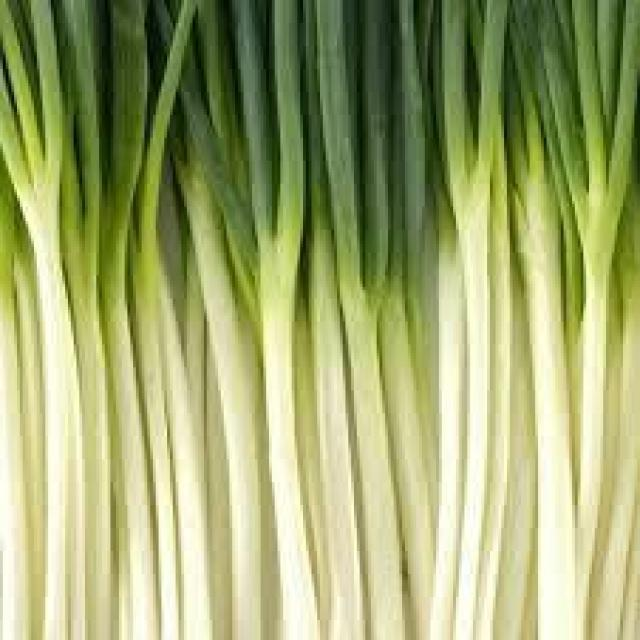Onion: (342, 0, 522, 640), (5, 0, 154, 640), (452, 0, 582, 640), (164, 9, 292, 614), (531, 0, 633, 640), (244, 0, 328, 640), (54, 0, 136, 640)
